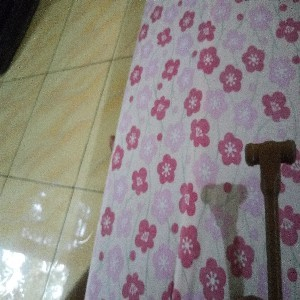palu: (244, 139, 298, 300)
